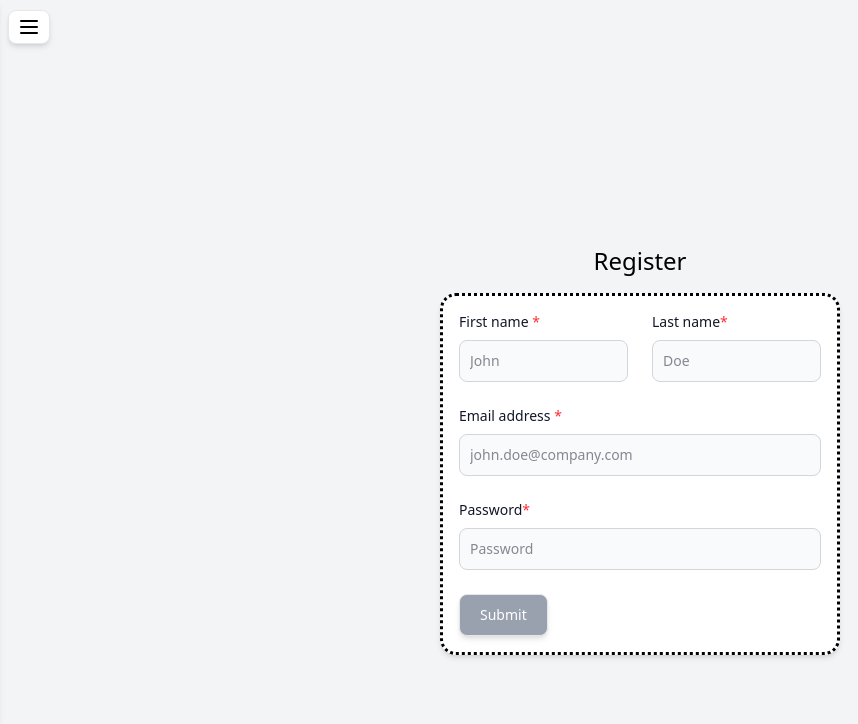
Test: Register › should show validation messages
The width and height of the screenshot is (858, 724).
Expected: the text "Submit" is shown, [480,605,527,624]
Type "T" into the field with placeholder "John" at (544, 361), box [459,340,628,382]
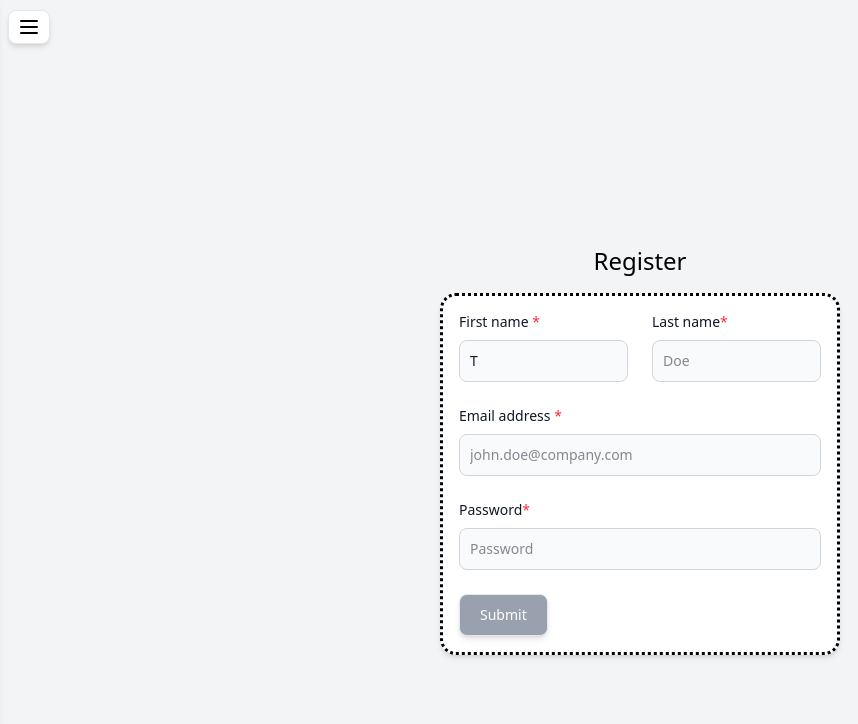
Type "T" into the field with placeholder "Doe" at (736, 361), box [652,340,821,382]
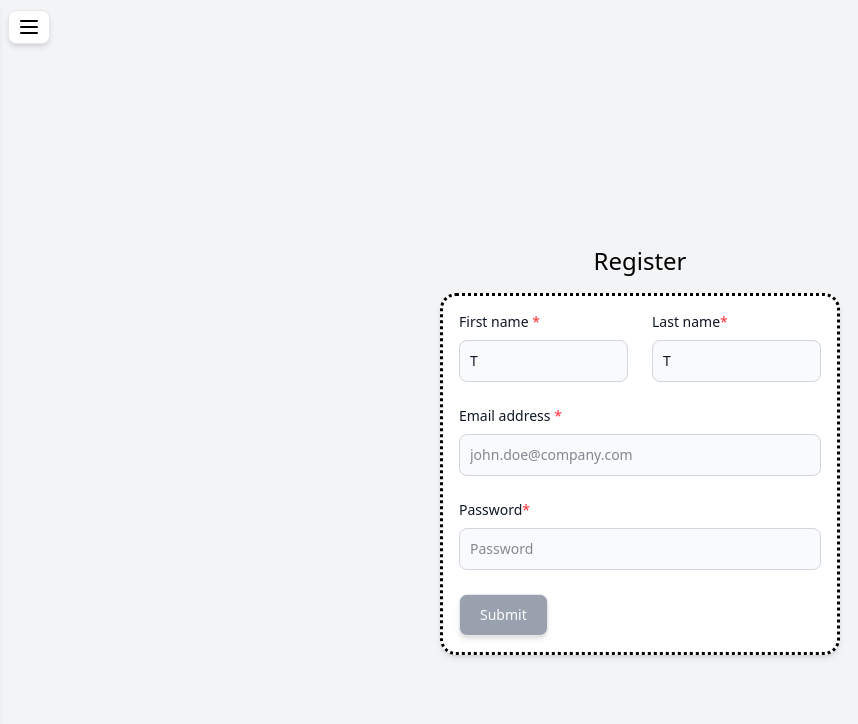
Type "admin" into the field with placeholder "john.doe@company.com" at (640, 455), box [459,434,821,476]
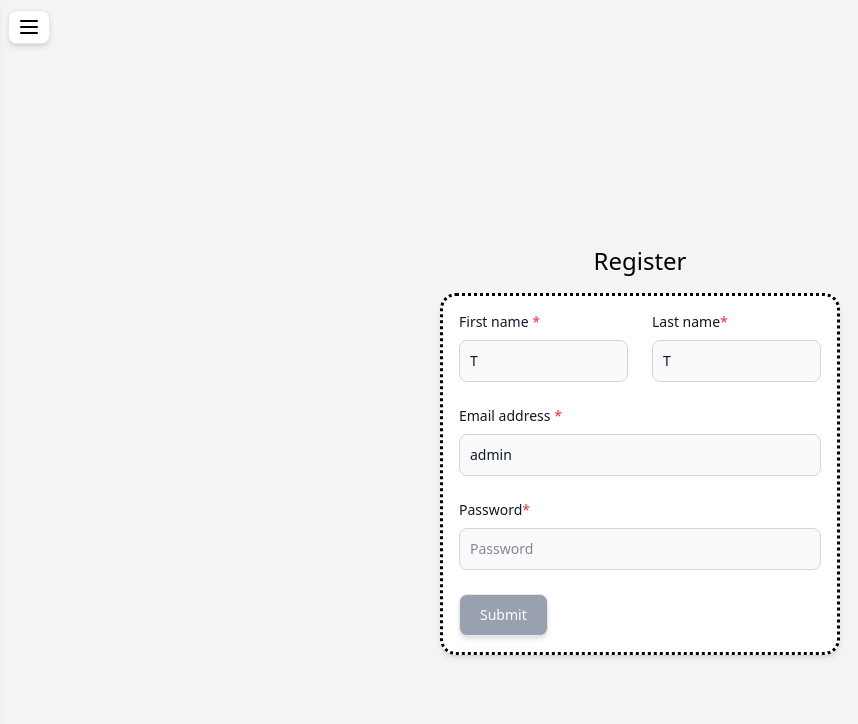
Type "pa" into the password field with placeholder "Password" at (640, 549), box [459,528,821,570]
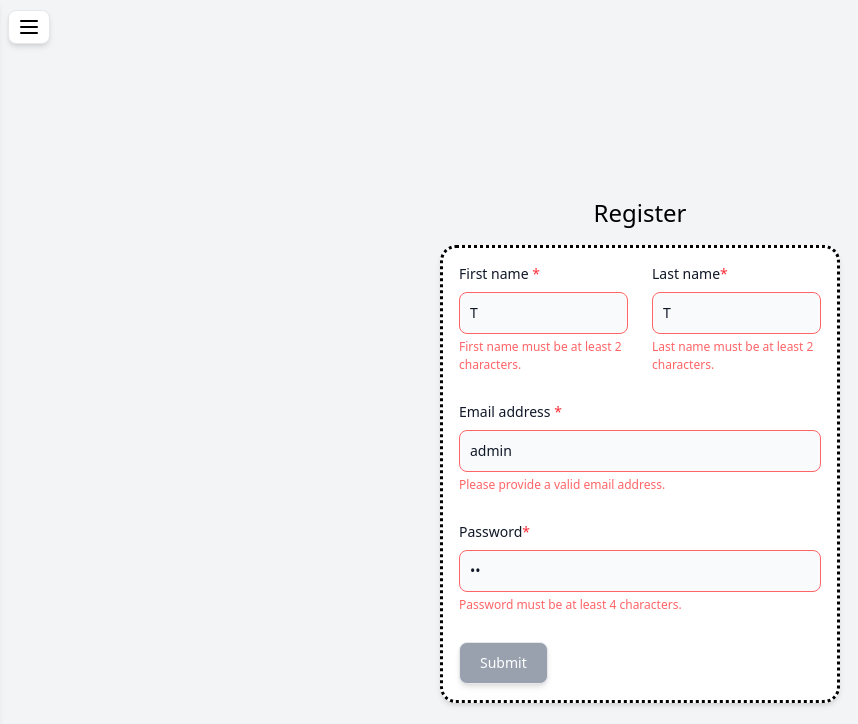
Expected: the text "First name must be at least 2 characters." is shown, [459,334,628,378]
Expected: the text "Last name must be at least 2 characters." is shown, [652,334,821,378]
Expected: the text "Please provide a valid email address." is shown, [459,476,665,493]
